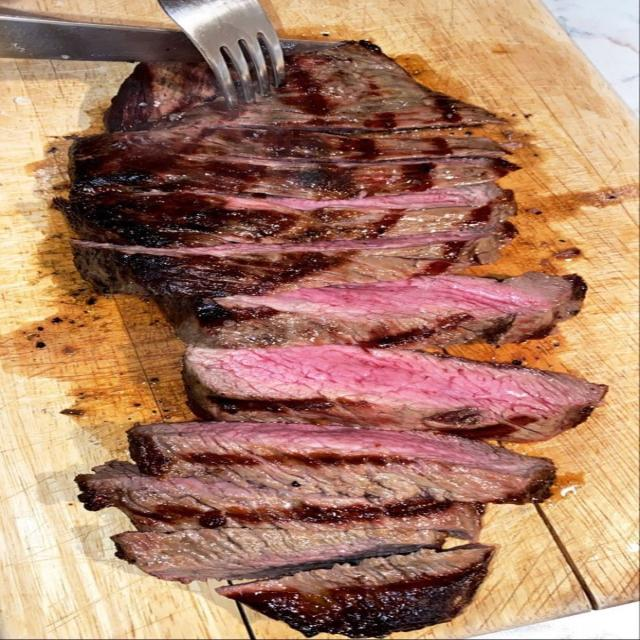beef steak: (183, 345, 606, 441), (106, 41, 500, 132), (63, 172, 515, 247), (128, 423, 554, 502), (73, 222, 514, 297), (70, 128, 515, 202), (159, 273, 585, 348), (76, 462, 483, 539), (72, 114, 504, 177), (217, 545, 493, 637), (112, 529, 445, 583)
